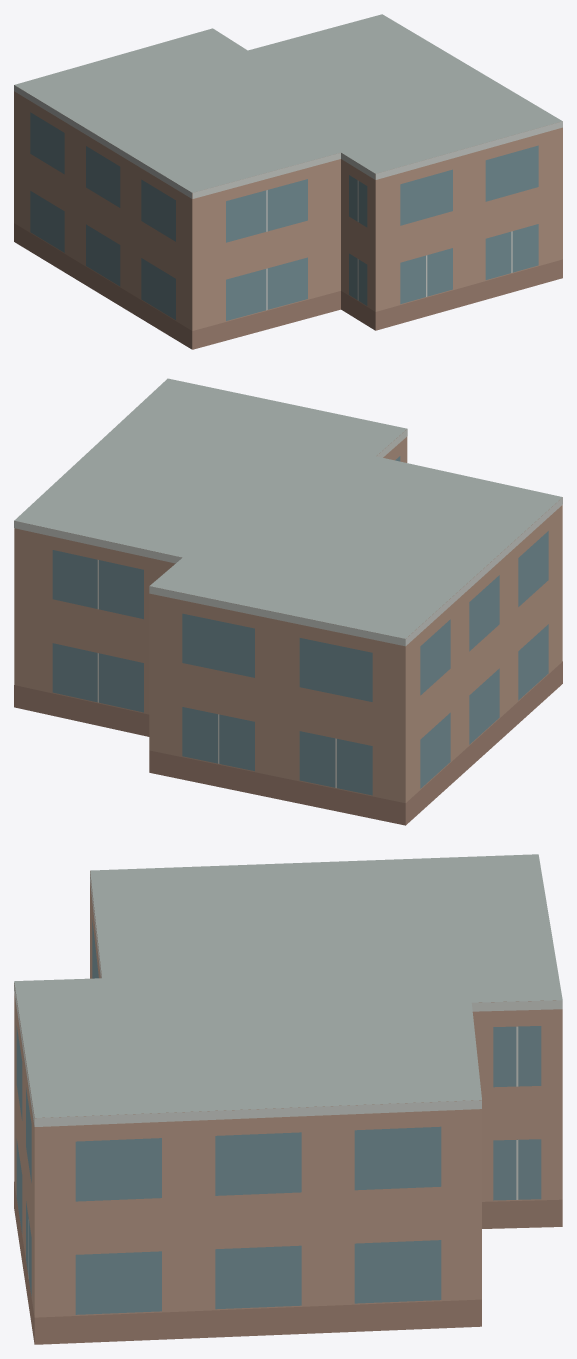
File: survey-upis-32697987.glb
3 renders of one model, top to bottom at view 1: azimuth 30°, elevation 25°; view 2: azimuth 150°, elevation 25°; view 3: azimuth 270°, elevation 25°, orthographic. The views are drawn at different scales.
Parts seen in each view (by area): view 1: survey-upis-32697987.tmp; view 2: survey-upis-32697987.tmp; view 3: survey-upis-32697987.tmp.
Boxes of the visible parts, x1,y1,x2,y2 form: survey-upis-32697987.tmp: (14,14,562,349); survey-upis-32697987.tmp: (14,378,562,825); survey-upis-32697987.tmp: (14,854,562,1344).
Size of the model in its own units: 15.25 by 6.1 by 13.39.
